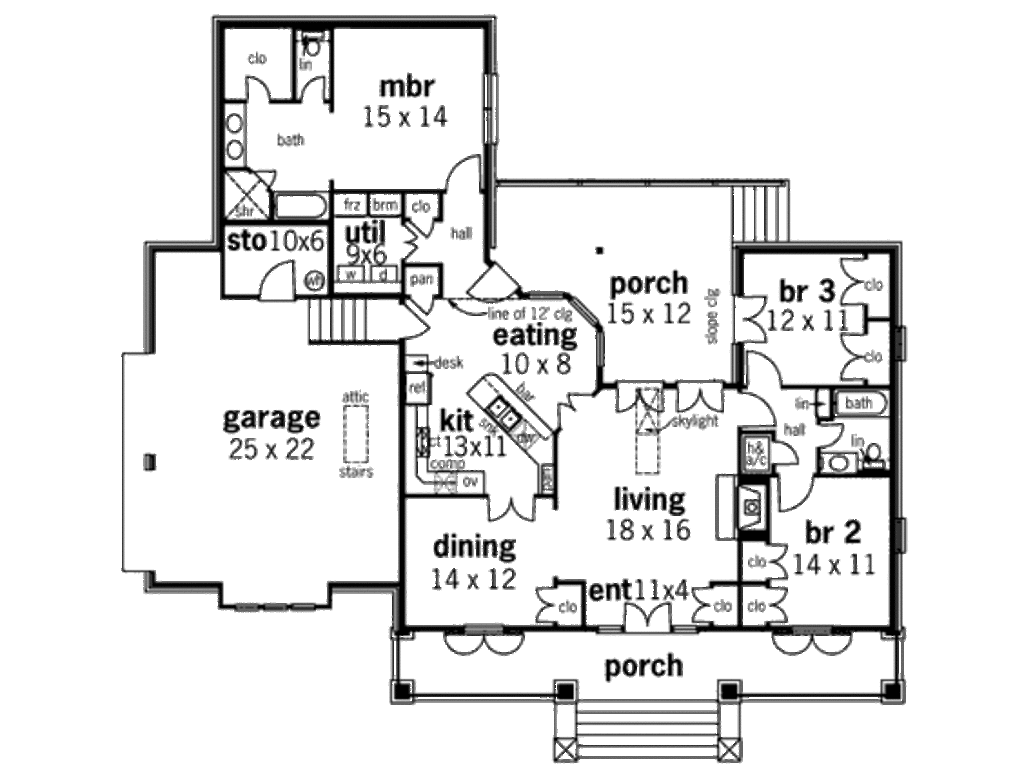door: (832, 250, 878, 317), (248, 253, 300, 305), (612, 597, 676, 637), (465, 262, 527, 303), (838, 326, 877, 386), (735, 294, 778, 347), (674, 376, 726, 418), (767, 473, 820, 514), (546, 386, 594, 431), (396, 299, 444, 341), (285, 68, 337, 106), (478, 491, 540, 522), (743, 347, 791, 386), (613, 381, 666, 415), (735, 387, 776, 429), (441, 153, 485, 191), (685, 581, 718, 627), (807, 414, 850, 449), (762, 539, 794, 582), (530, 578, 560, 623), (393, 216, 419, 264), (766, 581, 793, 626), (238, 73, 272, 104), (762, 440, 799, 465), (401, 210, 438, 232), (408, 291, 437, 316)
large_sink: (297, 27, 337, 61), (862, 437, 889, 474)
small_sink: (220, 103, 254, 171), (819, 443, 858, 470)
stairs: (577, 702, 726, 757), (715, 171, 800, 243), (305, 293, 396, 350)
tub: (267, 186, 332, 225), (830, 388, 899, 416)
twin_sink: (477, 385, 529, 441)
window: (479, 73, 501, 149), (231, 599, 329, 614)
